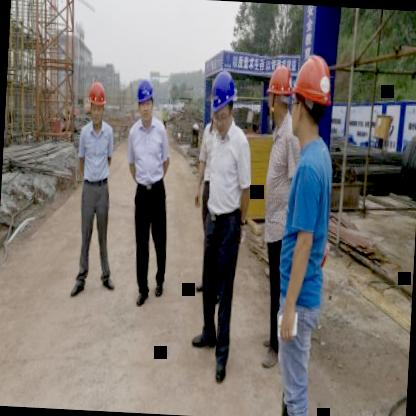helmet: (286, 54, 334, 139), (207, 68, 237, 132), (265, 64, 292, 126), (84, 78, 108, 126), (132, 78, 156, 124)
